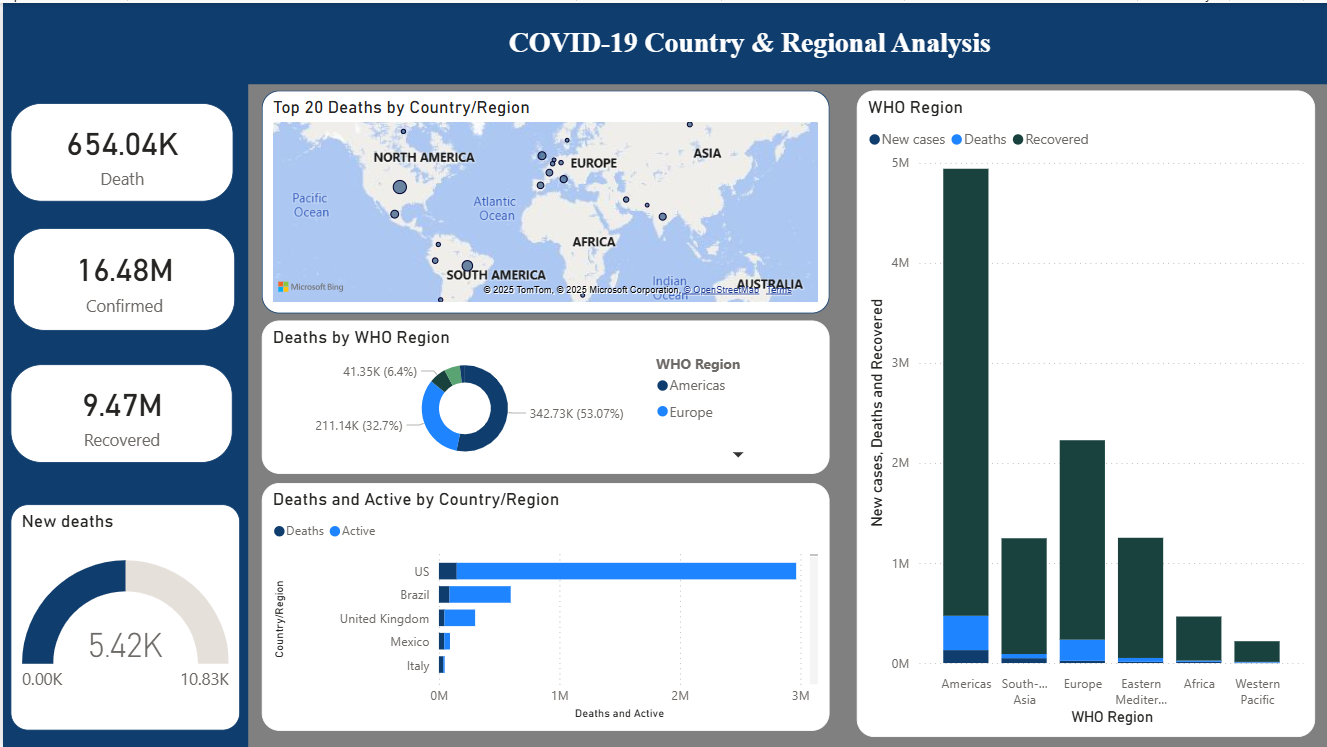

The dashboard page shown, as its layout file describes it:
{"tool":"powerbi","page":{"name":"Covid-19 Country & Regional Analysis","canvas":[1280,720],"ordinal":0},"visuals":[{"type":"shape","box":[0,0,236.7,720],"z":0},{"type":"shape","box":[221.7,0,1058.3,78.3],"z":1000},{"type":"textbox","box":[250,13.3,788.3,55],"z":2000},{"type":"card","fields":{"Values":["Sum(CovidCountryWise.Deaths)"]},"box":[7,78,215,102],"z":3000},{"type":"card","fields":{"Values":["Sum(CovidCountryWise.Confirmed)"]},"box":[7,205,215,102],"z":4000},{"type":"card","fields":{"Values":["Sum(CovidCountryWise.Recovered)"]},"box":[7,343,215,106],"z":5000},{"type":"map","fields":{"Category":["CovidCountryWise.Country/Region"],"Size":["Sum(CovidCountryWise.Deaths)"]},"box":[236.7,78.3,593.3,228.3],"z":6000},{"type":"donutChart","fields":{"Category":["CovidCountryWise.WHO Region"],"Y":["Sum(CovidCountryWise.Deaths)"]},"box":[236.4,307.3,593.6,176.4],"z":7000},{"type":"barChart","fields":{"Category":["CovidCountryWise.Country/Region"],"Y":["Sum(CovidCountryWise.Deaths)","Sum(CovidCountryWise.Active)"]},"box":[250,481.7,568.3,238.3],"z":7001},{"type":"columnChart","fields":{"Category":["CovidCountryWise.WHO Region"],"Y":["Sum(CovidCountryWise.New cases)","Sum(CovidCountryWise.Deaths)","Sum(CovidCountryWise.Recovered)"]},"box":[837.5,77.5,442.5,642.5],"z":7002},{"type":"gauge","fields":{"Y":["Sum(CovidCountryWise.New deaths)"]},"box":[6.7,483.3,221.7,218.3],"z":7003}]}

Visuals, with their boxes in screenshot pixels (x1, y1, x2, y2), scaled from the page's 1280x720 canvas onto the 1327x747 screenshot:
shape: (0, 0, 245, 746)
shape: (230, 0, 1326, 81)
textbox: (259, 14, 1076, 71)
card - Sum(CovidCountryWise.Deaths): (7, 81, 230, 187)
card - Sum(CovidCountryWise.Confirmed): (7, 213, 230, 319)
card - Sum(CovidCountryWise.Recovered): (7, 356, 230, 466)
map - CovidCountryWise.Country/Region x Sum(CovidCountryWise.Deaths): (245, 81, 860, 318)
donutChart - CovidCountryWise.WHO Region x Sum(CovidCountryWise.Deaths): (245, 319, 860, 502)
barChart - CovidCountryWise.Country/Region x Sum(CovidCountryWise.Deaths): (259, 500, 848, 746)
columnChart - CovidCountryWise.WHO Region x Sum(CovidCountryWise.New cases): (868, 80, 1326, 746)
gauge - Sum(CovidCountryWise.New deaths): (7, 501, 237, 728)
